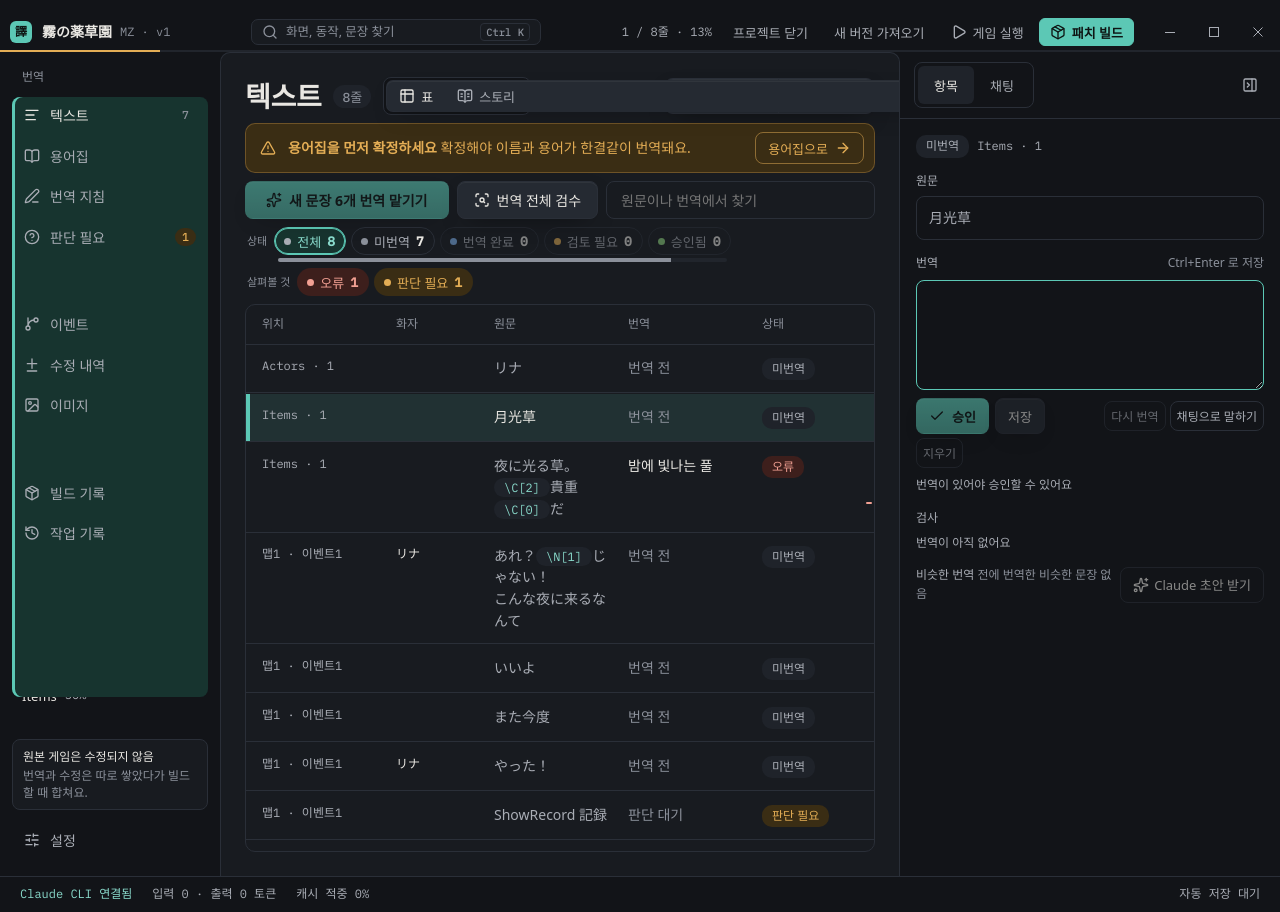
Test: 채팅으로 말하기는 항목을 붙인다
Expected: the text "霧の薬草園" is shown, [42, 21, 112, 43]
Click the button "채팅으로 말하기" at (1217, 416), box [1170, 402, 1264, 432]
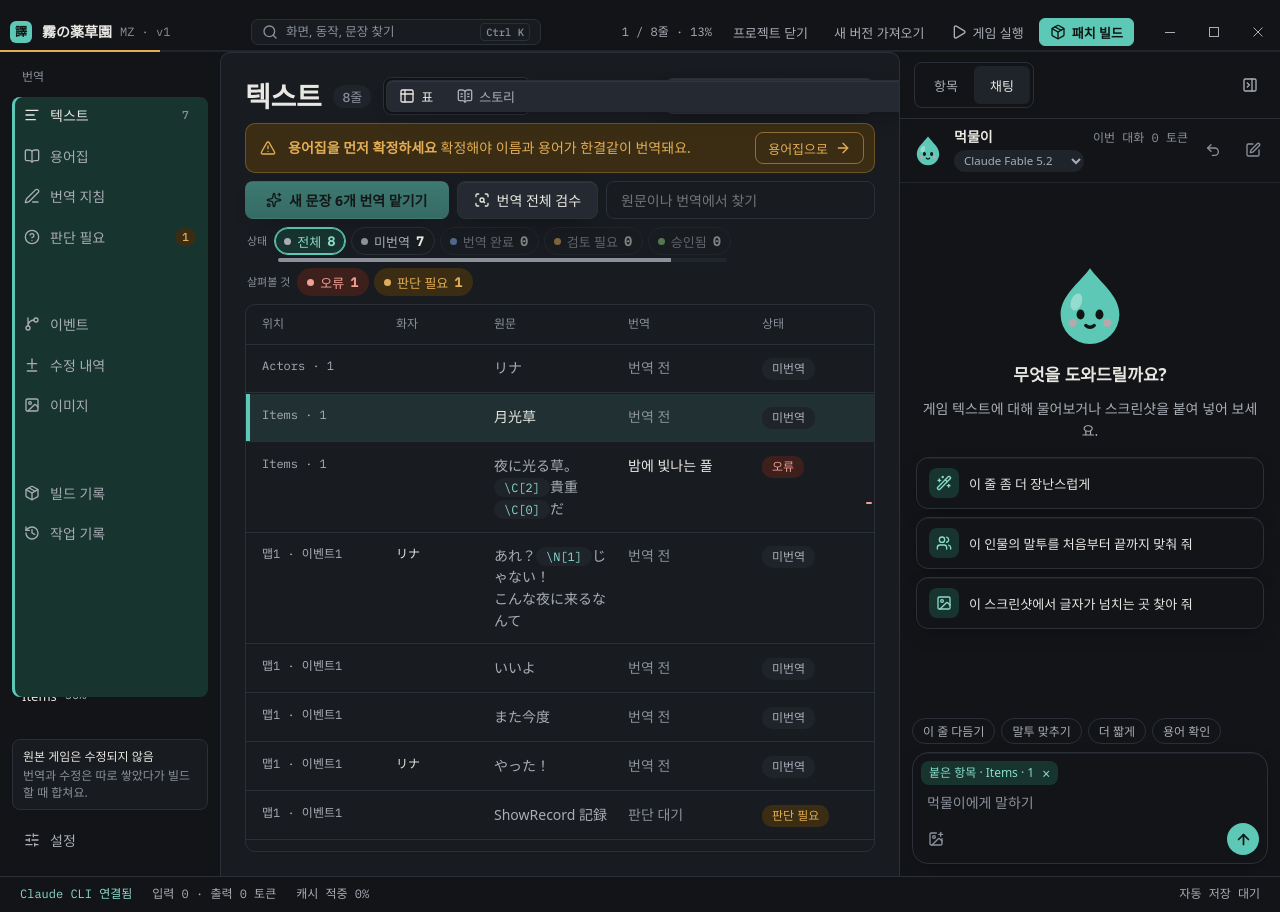
Now the text "붙은 항목 · Items · 1 ×" is shown, box [921, 761, 1058, 785]
